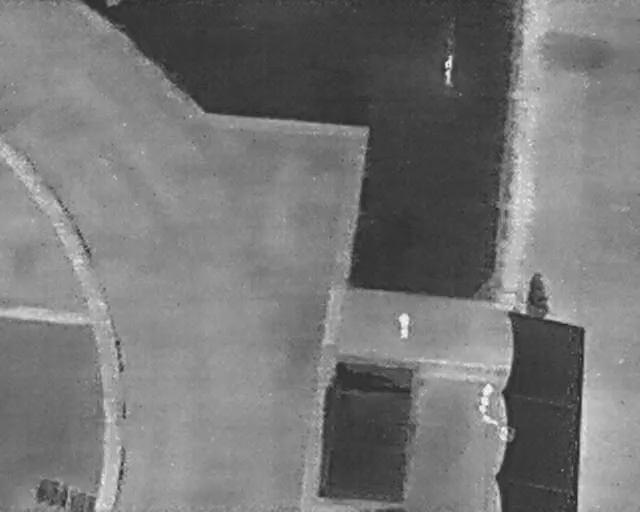Person: (474, 379, 497, 416), (396, 310, 412, 339), (443, 53, 454, 83)
